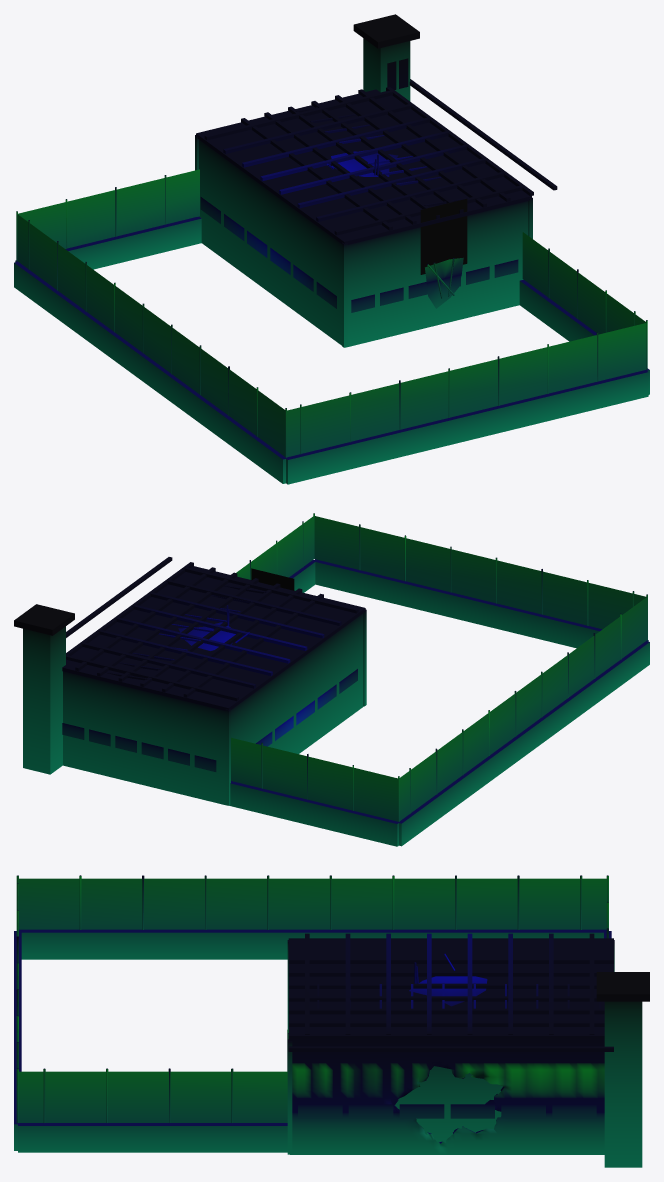
The model's file is prison_damaged.glb.
3 renders of one model, top to bottom at view 1: azimuth 30°, elevation 25°; view 2: azimuth 150°, elevation 25°; view 3: azimuth 270°, elevation 25°, orthographic. The views are drawn at different scales.
Parts seen in each view (by area): view 1: lod0; view 2: lod0; view 3: lod0.
Boxes of the visible parts, x1=… form: lod0: x1=14, y1=14, x2=649, y2=484; lod0: x1=14, y1=513, x2=649, y2=846; lod0: x1=14, y1=875, x2=649, y2=1167.
Size of what is drawn, in the model's own units: 32.45 by 12.45 by 40.65.
